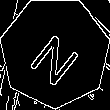N_NE: (24, 20, 86, 85)
